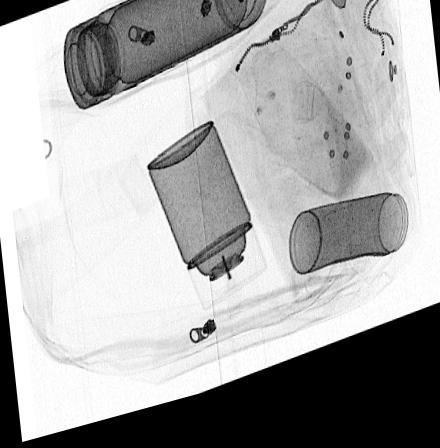Sprayer: (145, 131, 268, 325)
